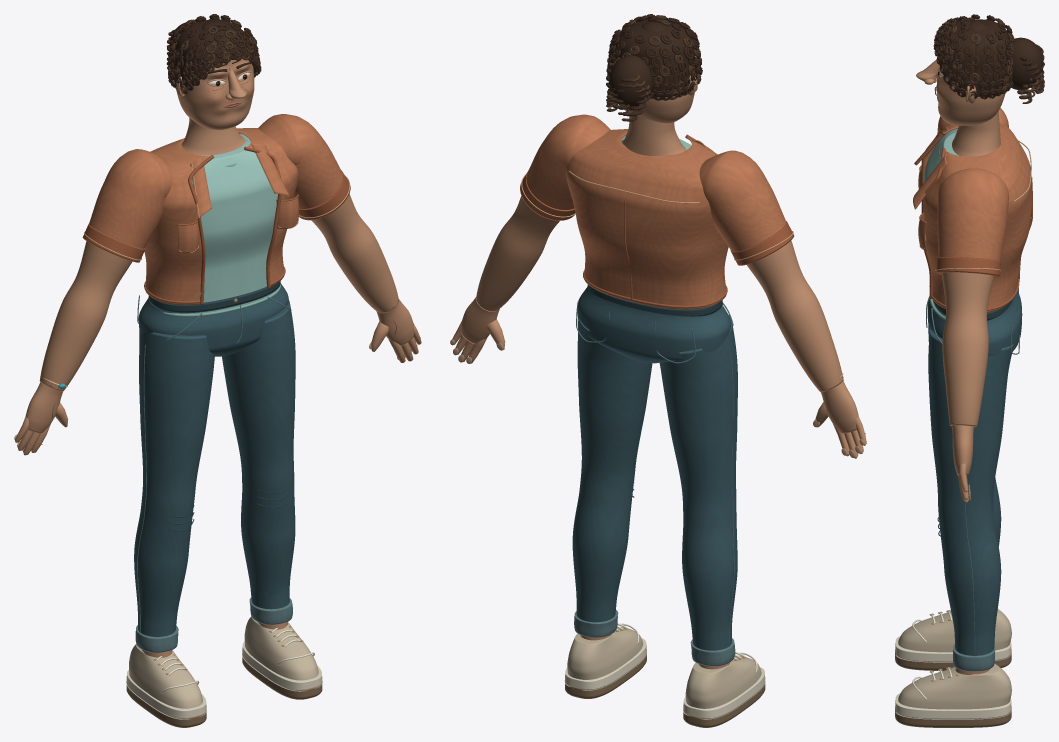
The picture shows the model from 3 angles, left to right: view 1: azimuth 30°, elevation 25°; view 2: azimuth 150°, elevation 25°; view 3: azimuth 270°, elevation 25°; orthographic projection. The views are drawn at different scales.
Parts seen in each view (by area): view 1: Left powerful leg in tapered twill trousers, Right powerful leg in tapered twill trousers, Soft jersey tee, Woven open overshirt - continuous back and fronts, Left continuous shoulder arm forearm, Left woven short sleeve, Right continuous shoulder arm forearm, Trouser seat and waist, Right woven short sleeve, Sculpted square face and cranium, Right canvas trainer upper, Left canvas trainer upper (+15 smaller); view 2: Woven open overshirt - continuous back and fronts, Left powerful leg in tapered twill trousers, Right powerful leg in tapered twill trousers, Trouser seat and waist, Left continuous shoulder arm forearm, Left woven short sleeve, Right continuous shoulder arm forearm, Right woven short sleeve, Right canvas trainer upper, Left canvas trainer upper, Neck and visible trapezius, Curly hair base cap (+13 smaller); view 3: Right powerful leg in tapered twill trousers, Woven open overshirt - continuous back and fronts, Right continuous shoulder arm forearm, Right woven short sleeve, Right canvas trainer upper, Left canvas trainer upper, Curly hair base cap, Sculpted square face and cranium, Trouser seat and waist, Neck and visible trapezius, Right ivory sole band, Gathered short ponytail core (+11 smaller).
Boxes of the visible parts, x1,y1,x2,y2 form: Left powerful leg in tapered twill trousers: [134, 331, 214, 636]; Right powerful leg in tapered twill trousers: [222, 300, 295, 609]; Soft jersey tee: [173, 133, 277, 313]; Woven open overshirt - continuous back and fronts: [144, 128, 298, 304]; Left continuous shoulder arm forearm: [39, 241, 132, 391]; Left woven short sleeve: [89, 149, 172, 248]; Right continuous shoulder arm forearm: [311, 194, 398, 313]; Trouser seat and waist: [138, 283, 288, 356]; Right woven short sleeve: [258, 114, 343, 208]; Sculpted square face and cranium: [177, 56, 254, 129]; Right canvas trainer upper: [244, 616, 318, 680]; Left canvas trainer upper: [129, 644, 202, 708]; Woven open overshirt - continuous back and fronts: [566, 129, 728, 309]; Left powerful leg in tapered twill trousers: [659, 315, 737, 650]; Right powerful leg in tapered twill trousers: [572, 318, 652, 622]; Trouser seat and waist: [577, 286, 730, 363]; Left continuous shoulder arm forearm: [746, 240, 843, 392]; Left woven short sleeve: [699, 150, 786, 251]; Right continuous shoulder arm forearm: [476, 196, 559, 311]; Right woven short sleeve: [526, 114, 610, 209]; Right canvas trainer upper: [567, 626, 643, 679]; Left canvas trainer upper: [685, 655, 761, 708]; Neck and visible trapezius: [621, 116, 686, 155]; Curly hair base cap: [615, 19, 695, 97]; Right powerful leg in tapered twill trousers: [928, 328, 1013, 655]; Woven open overshirt - continuous back and fronts: [923, 123, 1031, 312]; Right continuous shoulder arm forearm: [941, 272, 993, 427]; Right woven short sleeve: [937, 168, 1008, 261]; Right canvas trainer upper: [898, 663, 1011, 709]; Left canvas trainer upper: [898, 609, 1011, 652]; Curly hair base cap: [943, 19, 1008, 96]; Sculpted square face and cranium: [936, 57, 1005, 125]; Trouser seat and waist: [927, 291, 1022, 356]; Neck and visible trapezius: [952, 111, 1000, 156]; Right ivory sole band: [895, 693, 1011, 719]; Gathered short ponytail core: [1008, 37, 1043, 89].
Size of the model in its own units: 1.08 by 1.69 by 0.342.
